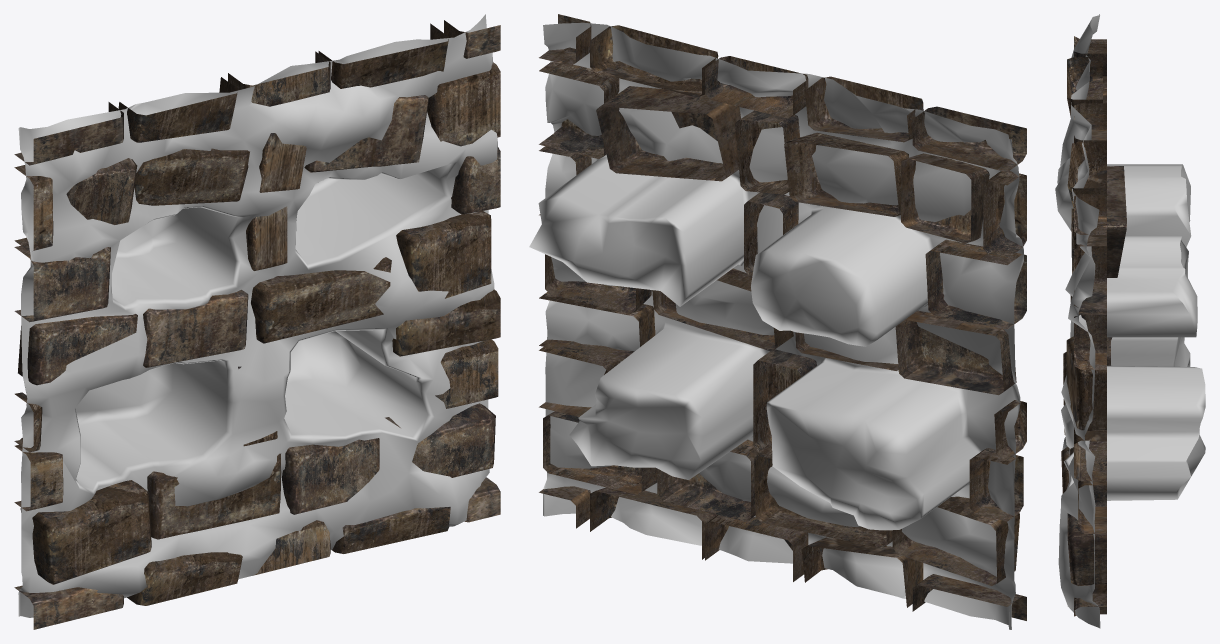
The model's file is taureg_grave_small.dae.
3 views of the same model, side by side, from view 1: azimuth 30°, elevation 25°; view 2: azimuth 150°, elevation 25°; view 3: azimuth 270°, elevation 25° (orthographic). The views are drawn at different scales.
Parts seen in each view (by area): view 1: Mesh__2_, LO__2___2_; view 2: Mesh__2_, LO__2___2_; view 3: Mesh__2_, LO__2___2_.
Boxes of the visible parts, bbox=[...] form: Mesh__2_: bbox=[18, 14, 497, 617]; LO__2___2_: bbox=[14, 20, 500, 629]; Mesh__2_: bbox=[529, 22, 1023, 629]; LO__2___2_: bbox=[539, 14, 1026, 620]; Mesh__2_: bbox=[1055, 14, 1205, 628]; LO__2___2_: bbox=[1061, 36, 1126, 616].
Bounding box in the file's own units: 4 × 4.02 × 1.3.
